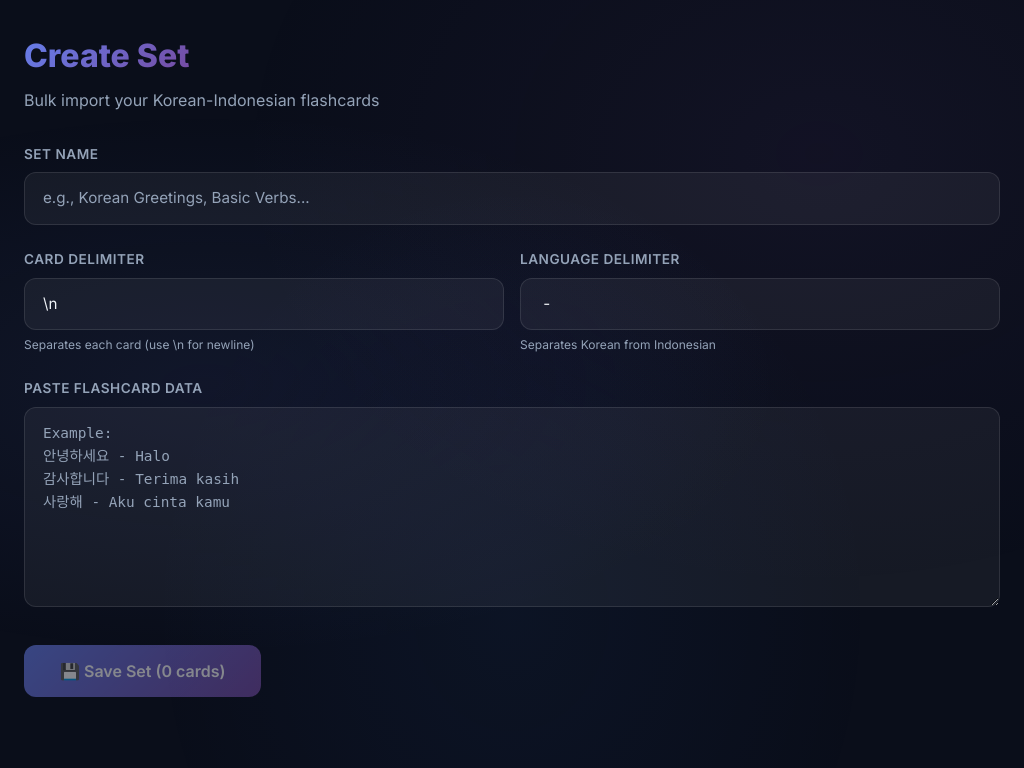
Test: CreateSet › parses bulk text with custom delimiters (e.g., "::")
Replace the text in the field below "Card Delimiter" with "||": (264, 304) [24, 278, 504, 330]
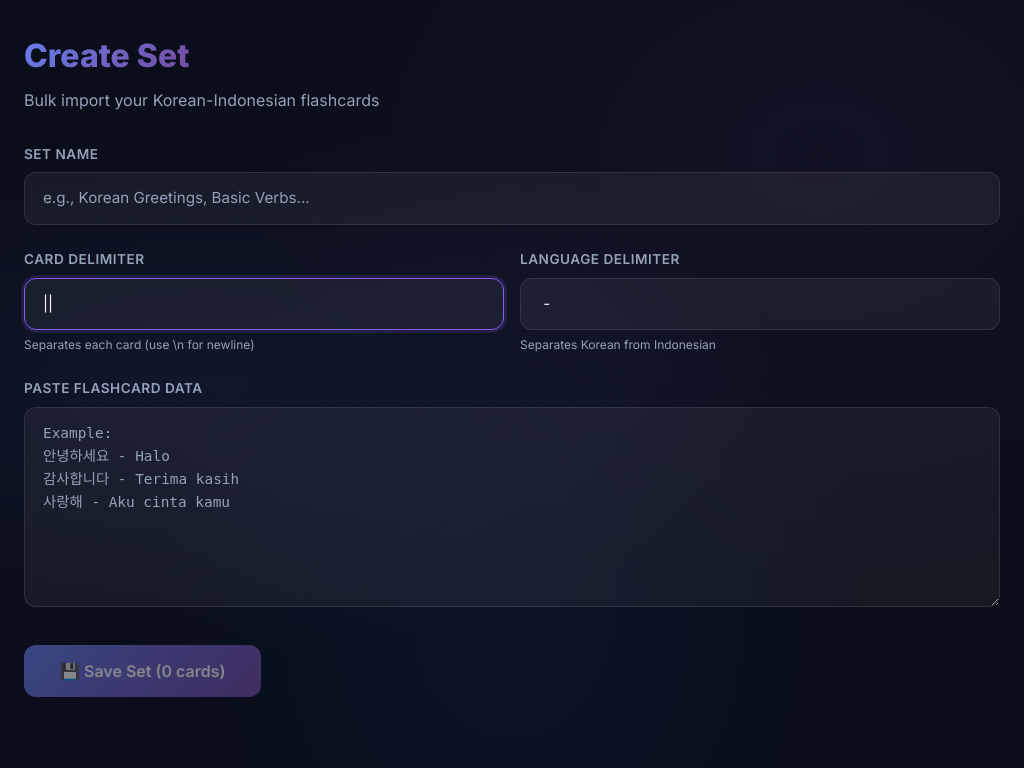
Replace the text in the field below "Language Delimiter" with "::": (760, 304) [520, 278, 1000, 330]
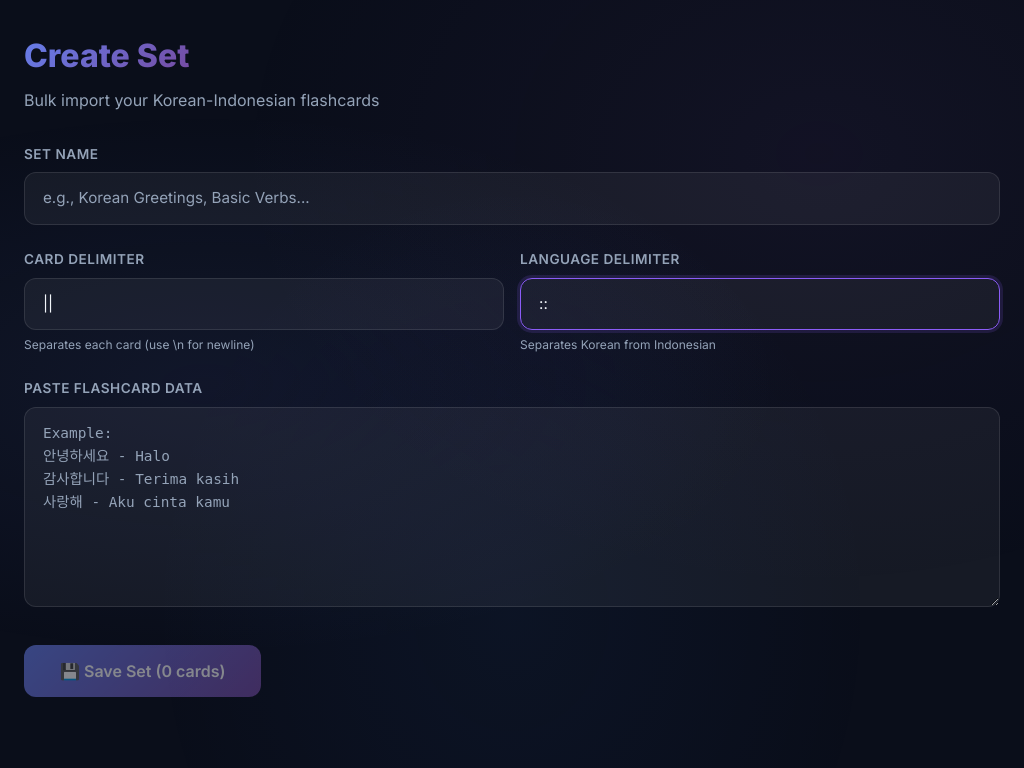
Replace the text in the text box with "안녕하세요::Halo||감사합니다::Terima kasih": (512, 507) [24, 407, 1000, 607]
(page scrolled)
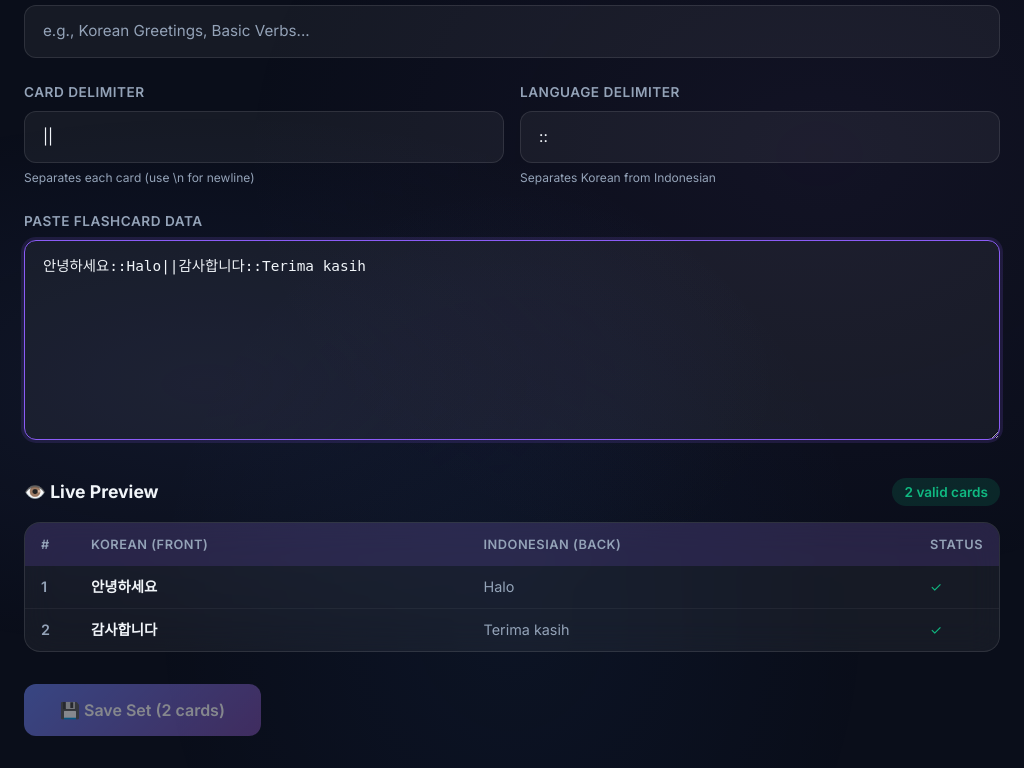
Now the text "2 valid cards" is shown, box [892, 478, 1000, 506]
Now the text "안녕하세요" is shown, box [75, 566, 468, 609]
Now the text "Halo" is shown, box [468, 566, 914, 609]
